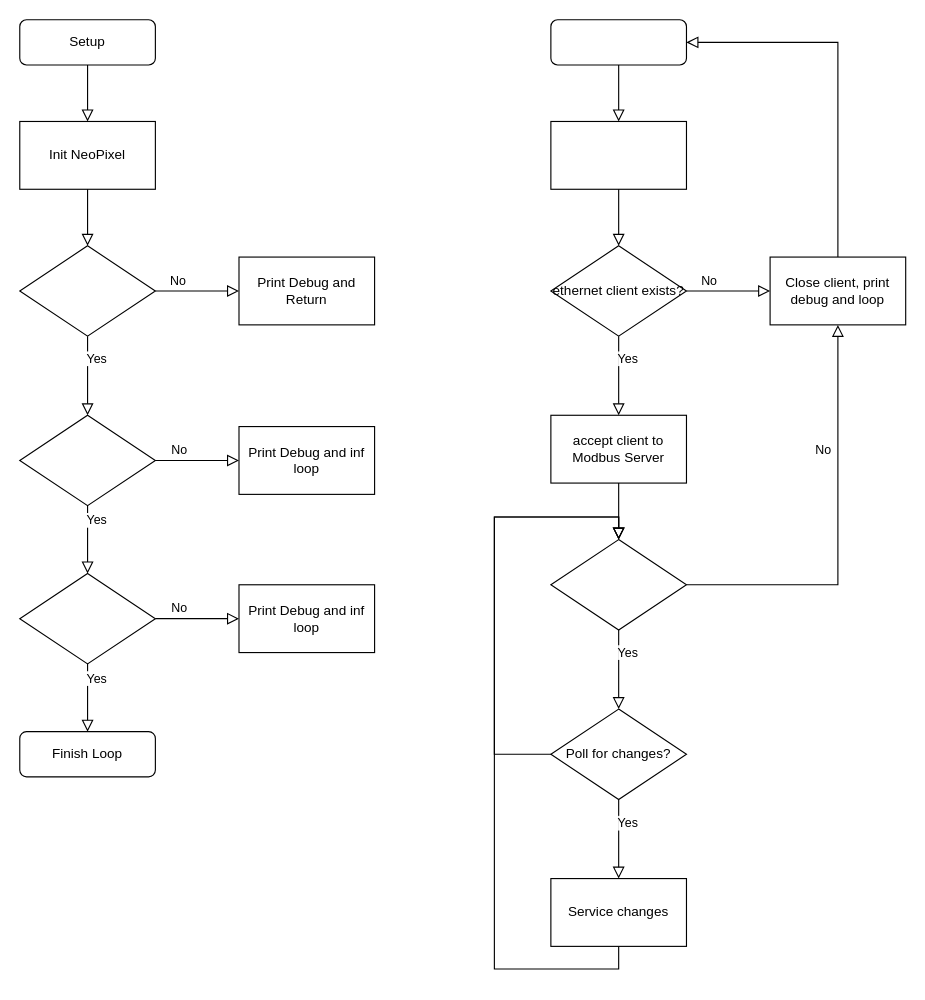
Image size: 925x1000. Some labels were removed from this diagram. The box of each missing label's shape, as (x1, y1, x2, y2) in pixels:
Enet Setup Successful?: (19, 572, 155, 664)
Ethernet Client Still connected?: (550, 538, 686, 630)
Get available ethernet client: (550, 120, 686, 189)
Loop: (550, 19, 686, 65)
Modbus Setup Successful?: (19, 414, 155, 506)
Serial Successful: (19, 245, 155, 336)
